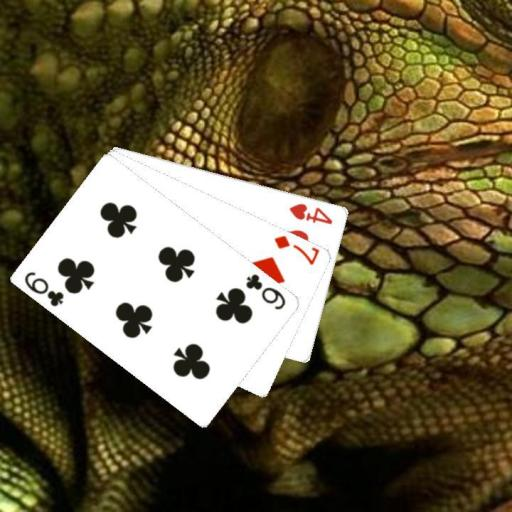4H: (287, 200, 334, 225)
6C: (242, 271, 288, 312), (21, 268, 66, 309)
7D: (271, 232, 321, 267)
